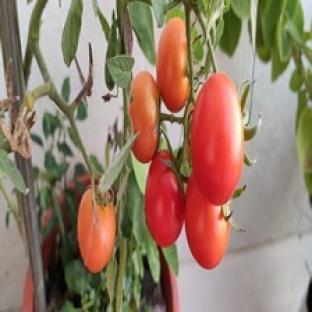Tomato: (191, 73, 243, 206), (186, 175, 229, 268), (145, 151, 183, 246), (156, 17, 189, 112), (78, 190, 115, 272), (129, 72, 158, 162), (297, 106, 311, 172)
